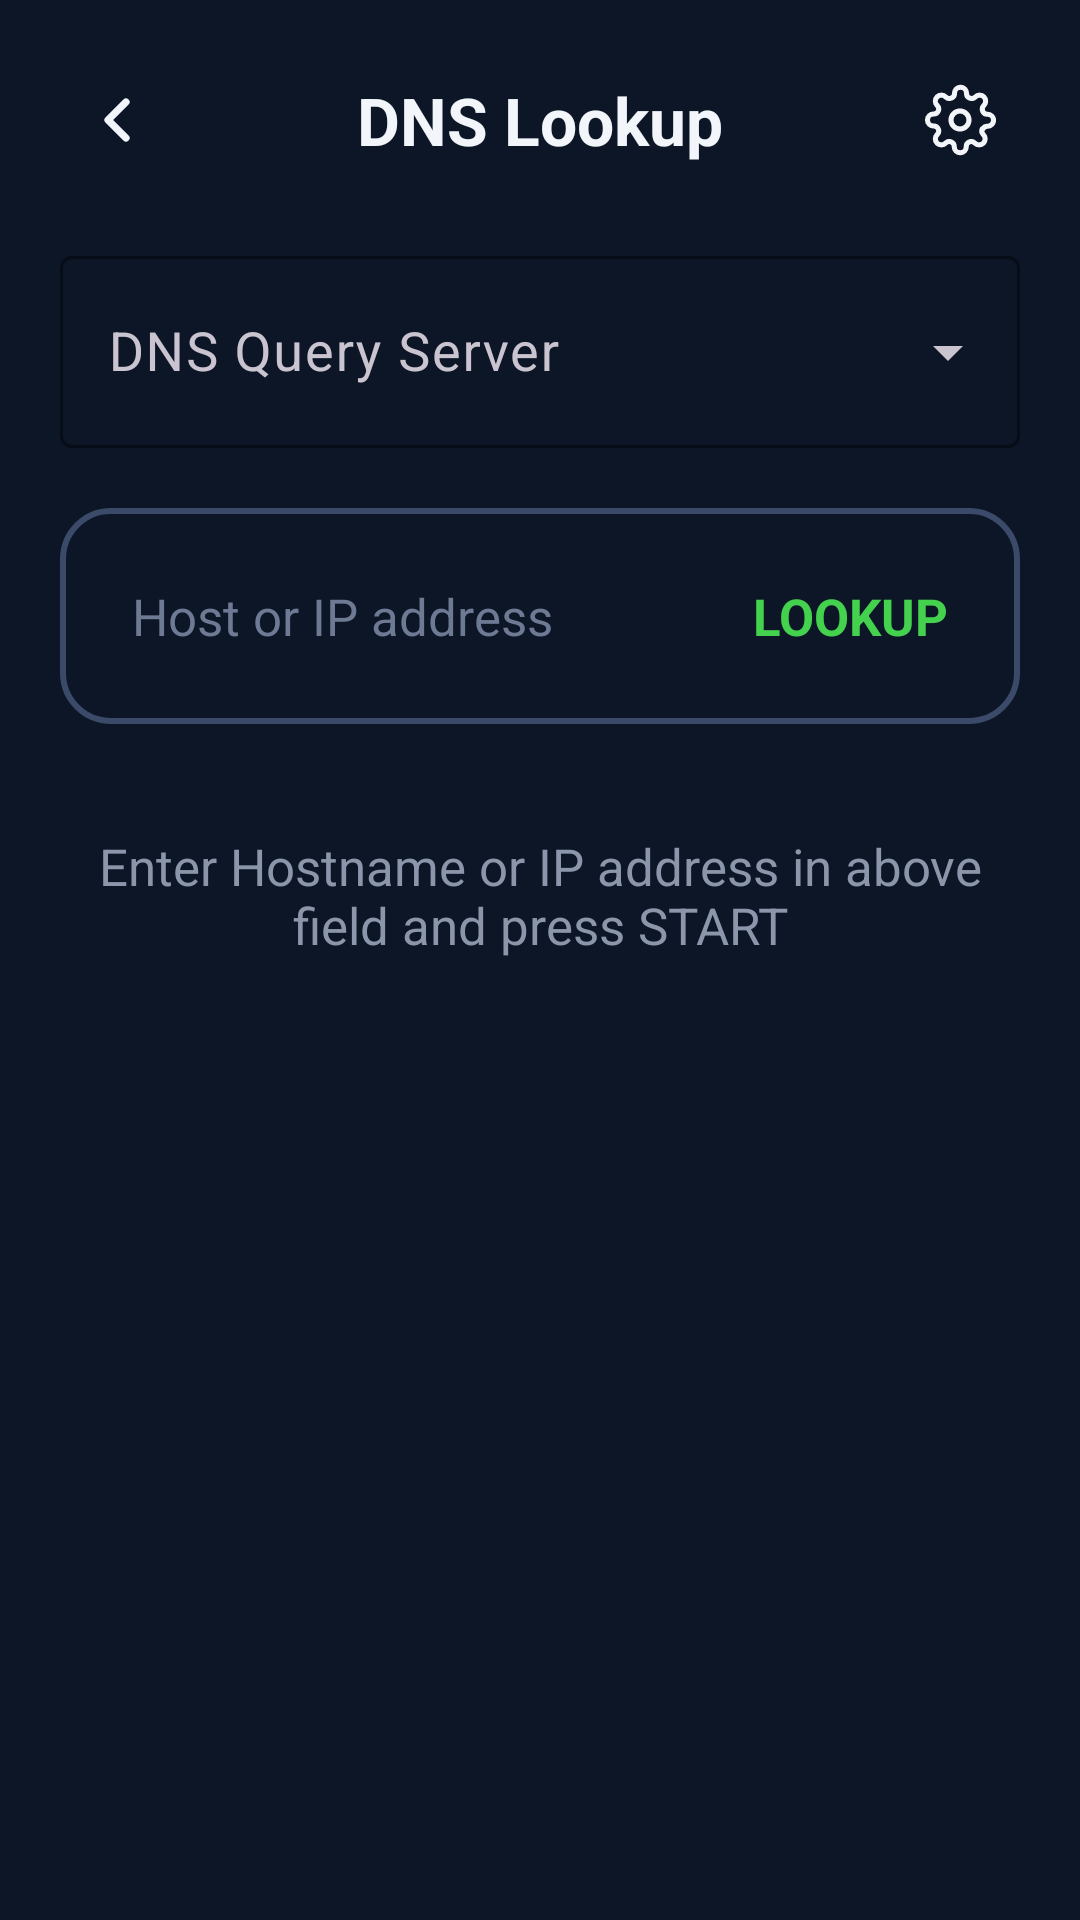

Named icons in this screenshot (1080×1920) and their bounding boxes, [left=x1, top=y1, right=x2, bottom=y2]:
back: [left=104, top=98, right=130, bottom=142]
gear: [left=925, top=84, right=996, bottom=156]
